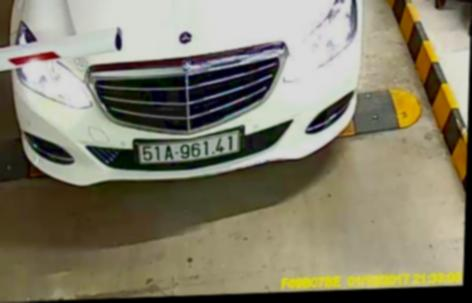License_Plate: (136, 133, 243, 165)
